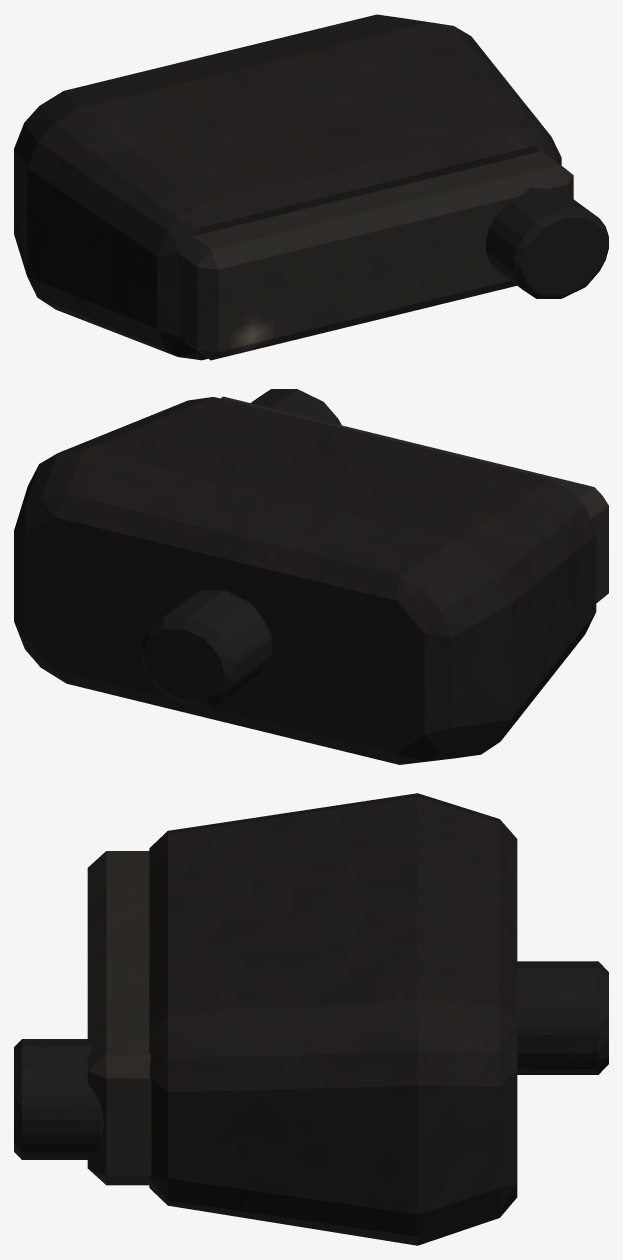
File: turret_pod_R.obj
3 renders of one model, top to bottom at view 1: azimuth 30°, elevation 25°; view 2: azimuth 150°, elevation 25°; view 3: azimuth 270°, elevation 25°, orthographic. The views are drawn at different scales.
Parts seen in each view (by area): view 1: turret_pod_R; view 2: turret_pod_R; view 3: turret_pod_R.
Boxes of the visible parts, x1=… form: turret_pod_R: x1=14, y1=14, x2=608, y2=360; turret_pod_R: x1=14, y1=389, x2=608, y2=764; turret_pod_R: x1=14, y1=793, x2=608, y2=1245.
Bounding box in the file's own units: 0.47 × 0.202 × 0.448.
1 material, 1 textured.
